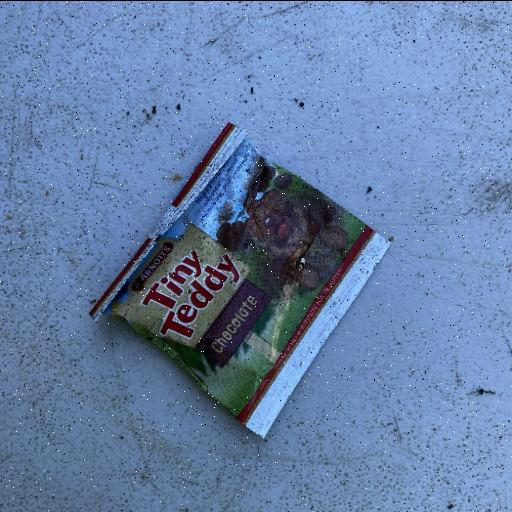Plastic: (87, 118, 393, 440)
